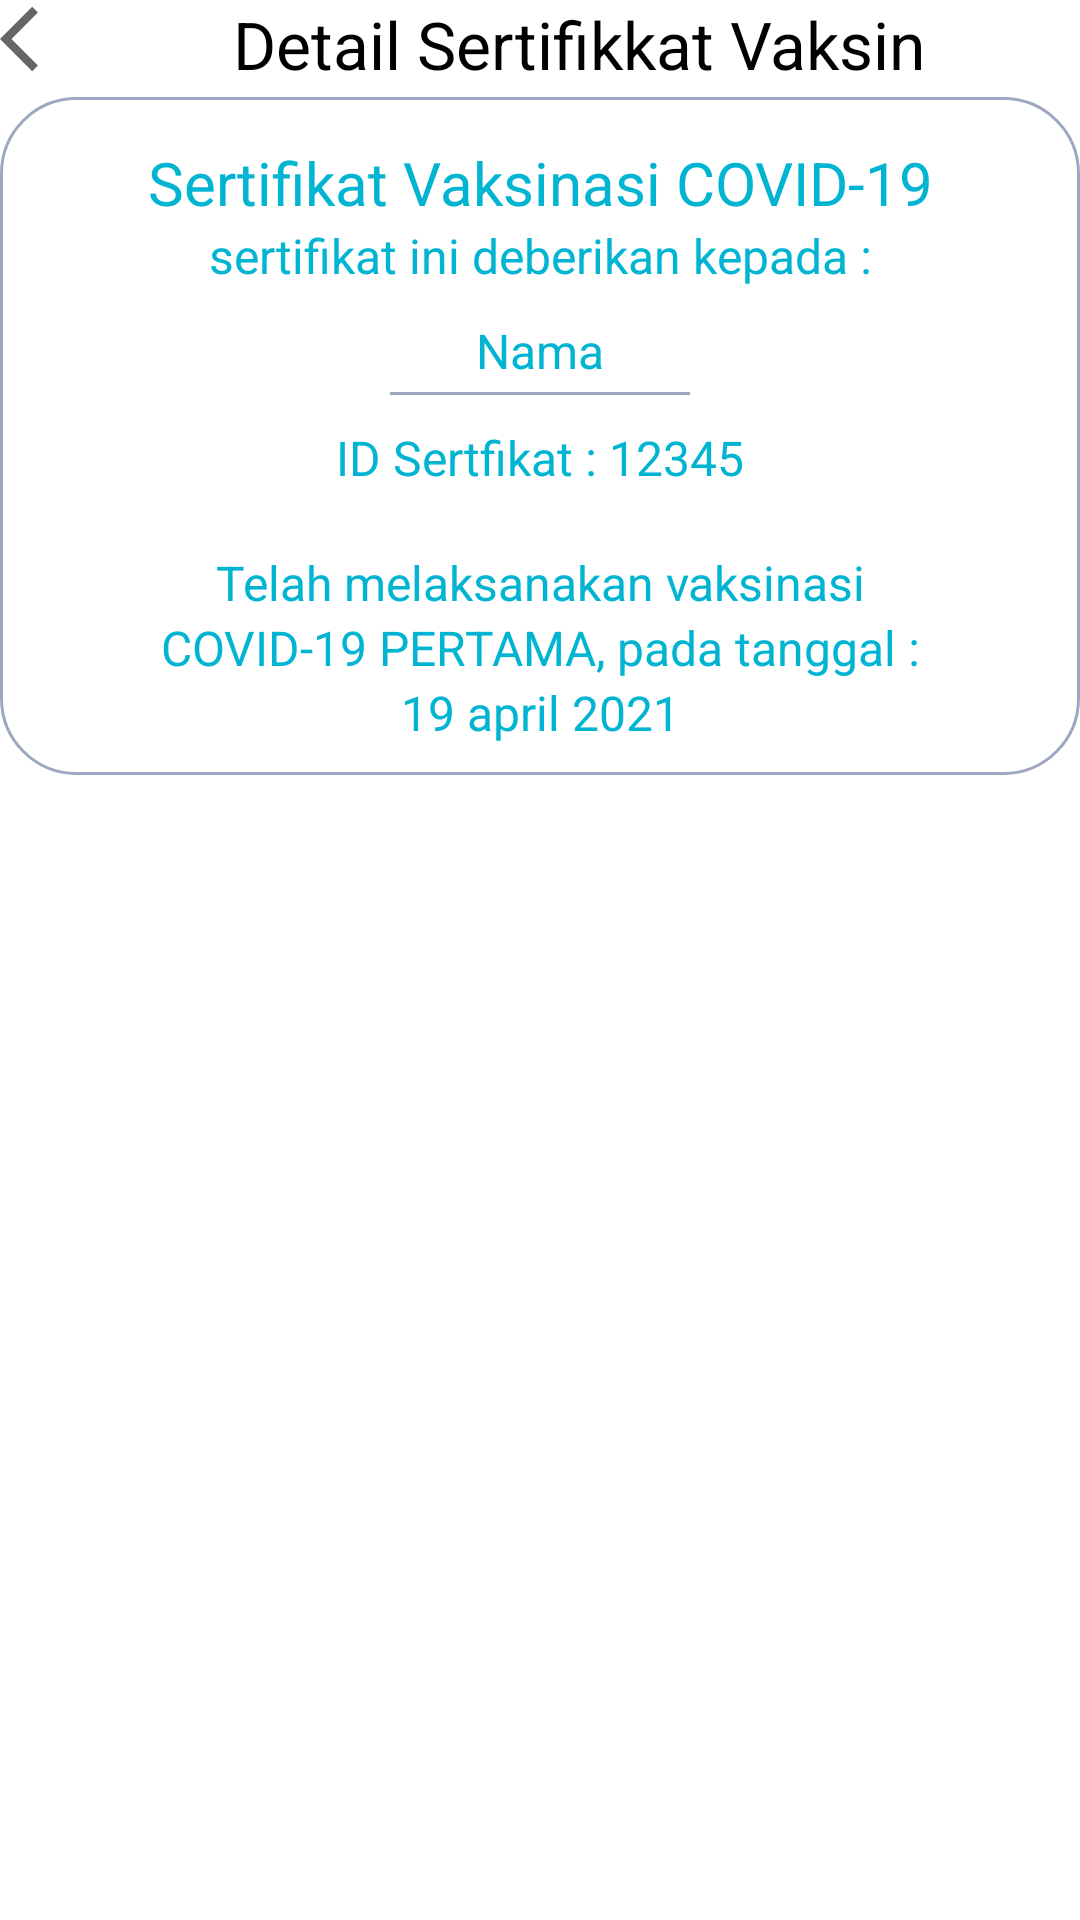

Icon bounding boxes for this 1080×1920 phone screenshot, format bbox=(x1, y1, x2, y2):
arrow back: bbox=(0, 7, 38, 71)
